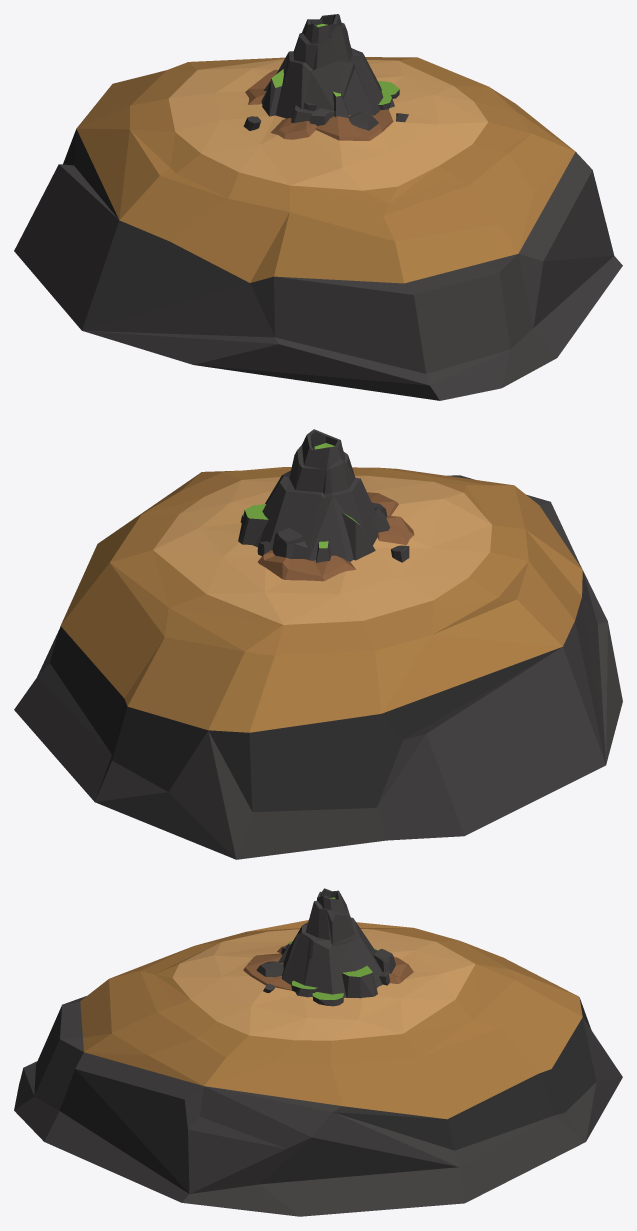
File: island-volcano.glb
3 views of the same model, one above another, from view 1: azimuth 30°, elevation 25°; view 2: azimuth 150°, elevation 25°; view 3: azimuth 270°, elevation 25° (orthographic). The views are drawn at different scales.
Visible parts, largest first — view 1: island-vulcano; view 2: island-vulcano; view 3: island-vulcano.
Boxes of the visible parts, box(x1,y1,x2,y2) form: island-vulcano: box(14, 14, 622, 400); island-vulcano: box(14, 429, 622, 859); island-vulcano: box(14, 888, 622, 1216).
Size of the model in its own units: 83.87 by 40.78 by 101.
